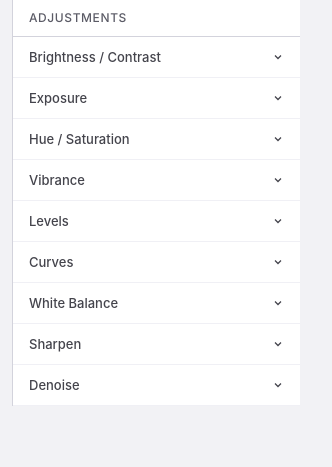
Test case: AdjustmentsPanel — the other sections › closes a section when its header is clicked twice
Click the button "Vibrance" at (57,180), box [13,160,300,200]
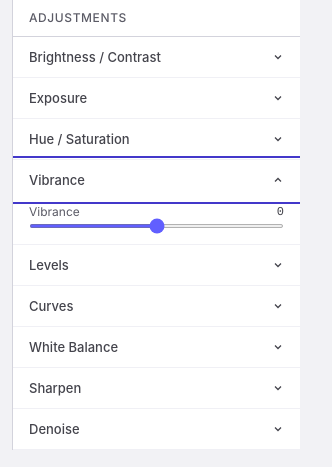
Result: the slider is shown at [29,224,284,228]
Click the button "Vibrance" at (57,180), box [13,160,300,200]
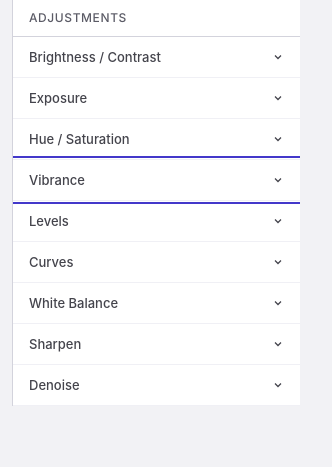
Result: the slider is gone
